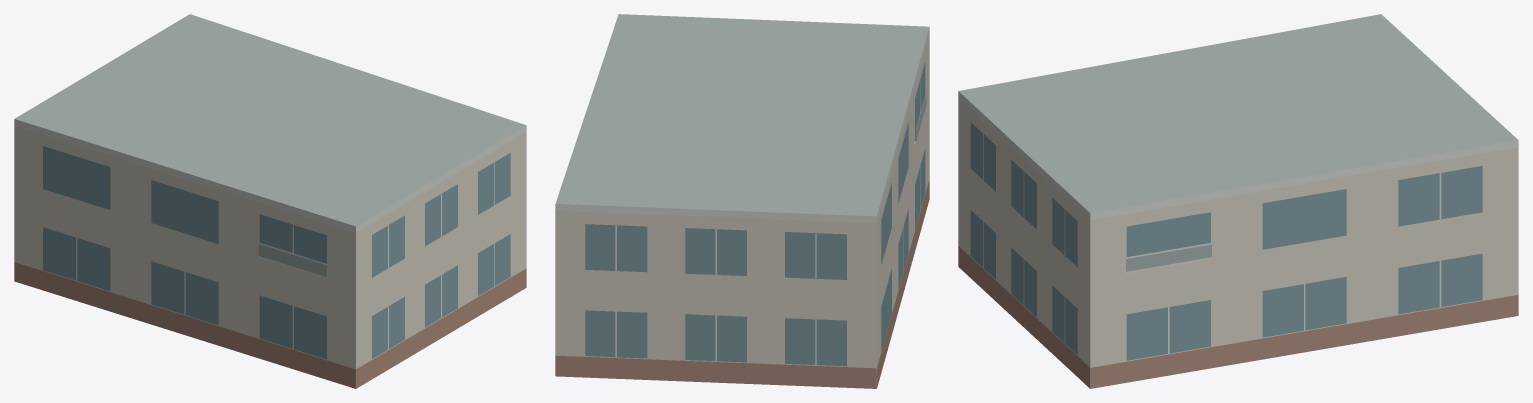
File: survey-upis-32927854.glb
3 views of the same model, side by side, from view 1: azimuth 30°, elevation 25°; view 2: azimuth 150°, elevation 25°; view 3: azimuth 270°, elevation 25° (orthographic). The views are drawn at different scales.
Visible parts, largest first — view 1: survey-upis-32927854.tmp; view 2: survey-upis-32927854.tmp; view 3: survey-upis-32927854.tmp.
Part boxes in pixels (box(x1,y1,x2,y2)): survey-upis-32927854.tmp: box(14, 14, 526, 388); survey-upis-32927854.tmp: box(555, 14, 929, 388); survey-upis-32927854.tmp: box(958, 14, 1518, 388).
Size of the model in its own units: 14.85 by 6.1 by 17.65.
